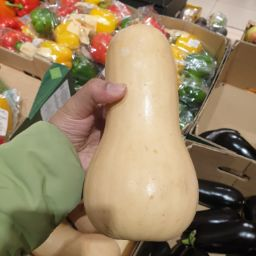Butternut Squash: (80, 14, 207, 255), (24, 216, 125, 256)
